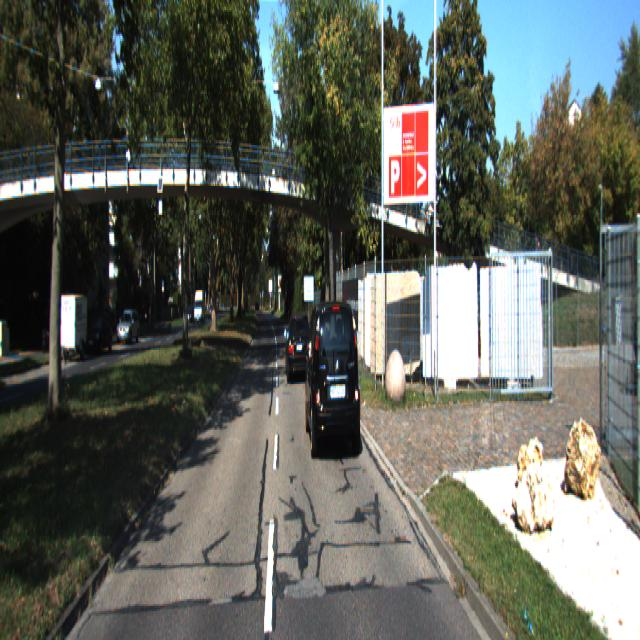Car: (304, 295, 364, 459), (285, 311, 311, 383), (116, 310, 140, 346)
DontCare: (84, 309, 113, 347), (183, 292, 204, 324), (208, 297, 218, 315), (256, 300, 260, 313)
